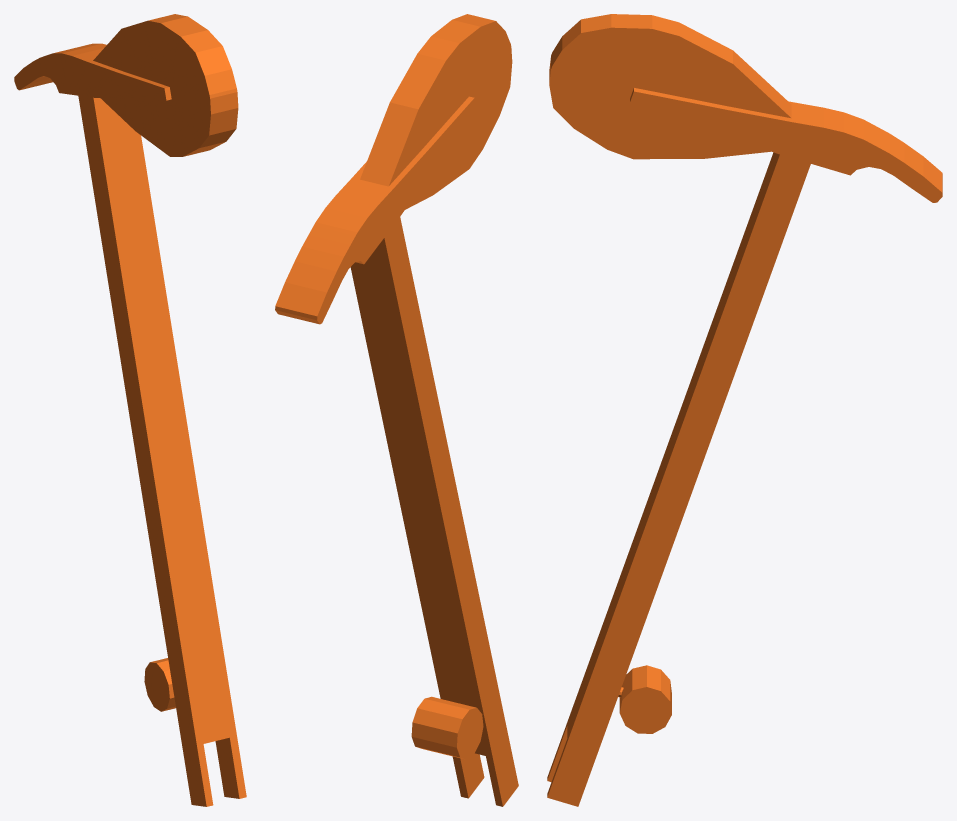
The model's file is key_hammer.obj.
3 views of the same model, side by side, from view 1: azimuth 30°, elevation 25°; view 2: azimuth 150°, elevation 25°; view 3: azimuth 270°, elevation 25° (orthographic). The views are drawn at different scales.
Parts seen in each view (by area): view 1: white_keys.003_Cube.003; view 2: white_keys.003_Cube.003; view 3: white_keys.003_Cube.003.
Part boxes in pixels (x1,y1,x2,y2): white_keys.003_Cube.003: [14, 14, 246, 806]; white_keys.003_Cube.003: [275, 14, 518, 806]; white_keys.003_Cube.003: [547, 14, 942, 806].
Size of the model in its own units: 0.0111 by 0.1857 by 0.0858.
